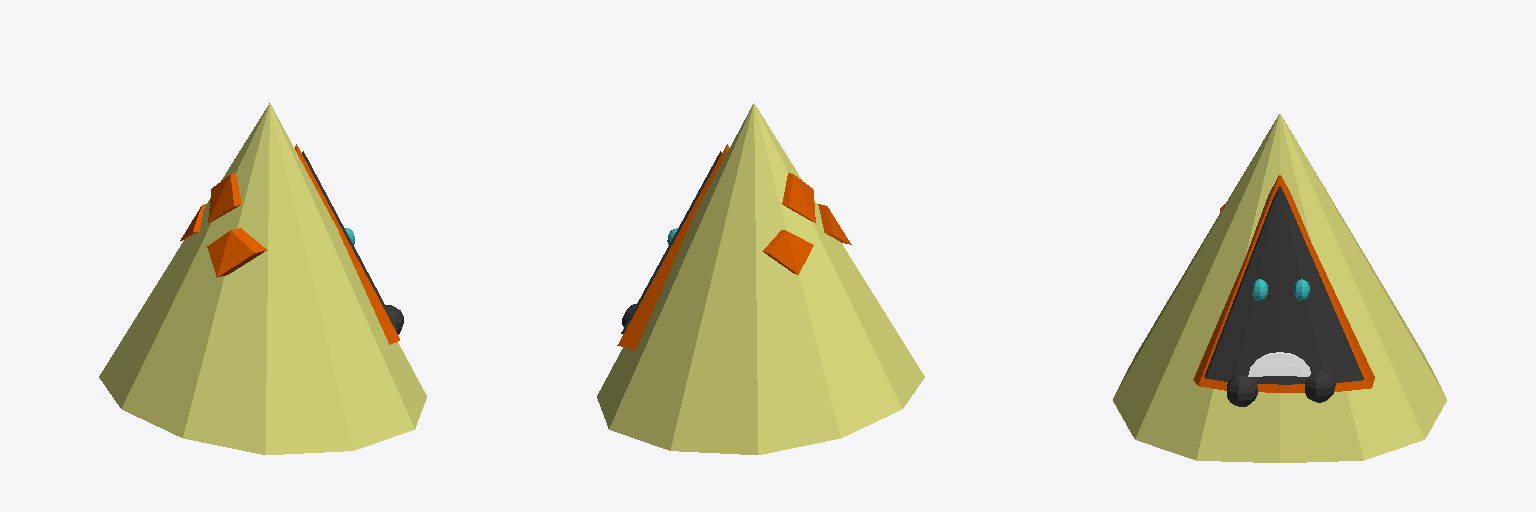
The picture shows the model from 3 angles: view 1: azimuth 30°, elevation 25°; view 2: azimuth 150°, elevation 25°; view 3: azimuth 270°, elevation 25°; orthographic projection.
Visible parts, largest first — view 1: Cone, Cube.004, Cone.002, Cube.002_Cube, Cone.001; view 2: Cone, Cone.002, Cube.003, Cube.002_Cube, Cone.001, Cube.004; view 3: Cone, Cone.001, Cone.002, Sphere.004, Sphere, Sphere.001.
Boxes of the visible parts, x1,y1,x2,y2 form: Cone: [99, 103, 426, 454]; Cube.004: [207, 228, 266, 277]; Cone.002: [295, 144, 399, 344]; Cube.002_Cube: [208, 173, 241, 222]; Cone.001: [302, 151, 397, 329]; Cone: [597, 103, 924, 454]; Cone.002: [617, 144, 728, 349]; Cube.003: [762, 230, 813, 274]; Cube.002_Cube: [782, 173, 815, 222]; Cone.001: [621, 151, 721, 333]; Cube.004: [818, 204, 851, 244]; Cone: [1113, 114, 1446, 462]; Cone.001: [1205, 186, 1363, 384]; Cone.002: [1193, 175, 1374, 392]; Sphere.004: [1248, 352, 1310, 376]; Sphere: [1227, 374, 1257, 406]; Sphere.001: [1305, 371, 1335, 402].
Bounding box in the file's own units: 1.86 × 1.97 × 2.
1 materials, 1 textured.